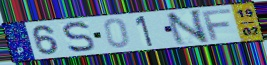0: (102, 17, 132, 50)
1: (134, 14, 155, 48)
6: (31, 24, 60, 56)
F: (200, 7, 234, 41)
N: (164, 8, 211, 47)
S: (61, 20, 98, 55)
